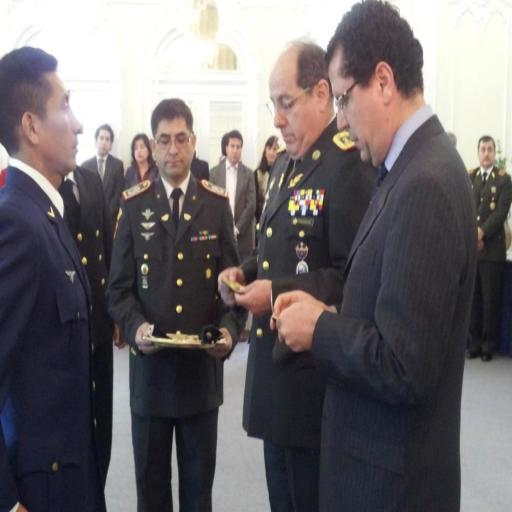Person: (330, 66, 470, 448), (110, 119, 238, 450), (1, 98, 109, 450), (246, 100, 328, 446), (474, 159, 511, 338), (214, 161, 248, 304), (88, 153, 118, 210), (250, 159, 272, 214), (123, 162, 147, 202)
no_gloves: (268, 283, 326, 332), (220, 254, 276, 303)
no_goggle: (266, 128, 316, 142), (150, 164, 196, 178), (46, 134, 75, 148), (334, 126, 362, 140), (473, 171, 501, 185)
no_helmet: (325, 62, 431, 104), (139, 128, 199, 160), (5, 96, 65, 128), (270, 94, 330, 126), (74, 132, 134, 164), (110, 142, 170, 174), (467, 148, 501, 172)
none: (366, 168, 479, 392), (4, 202, 116, 426), (118, 186, 230, 410), (252, 170, 364, 394)
